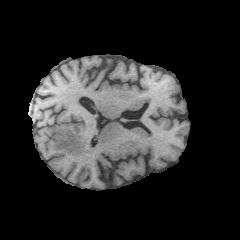glioma: (51, 129, 92, 156)
